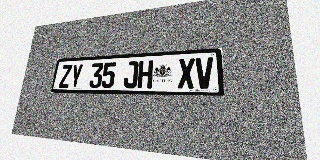3: (89, 63, 104, 88)
5: (101, 62, 116, 88)
H: (137, 60, 153, 88)
J: (123, 61, 139, 88)
V: (195, 57, 214, 89)
X: (178, 58, 195, 88)
Y: (69, 64, 83, 88)
Z: (58, 64, 72, 88)
